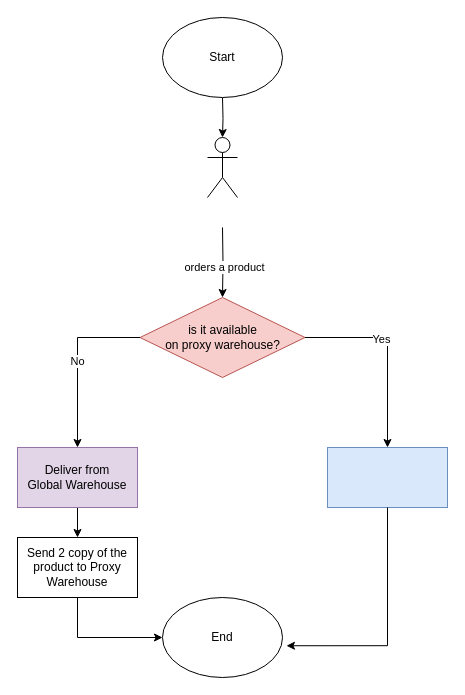
Some shapes in this 465 by 695 pixel diagram are drawn without their labels. Each missing label, with the box of its shape:
Client: (206, 136, 238, 198)
Deliver from Local / District/ Proxy Warehouse: (326, 446, 448, 508)
